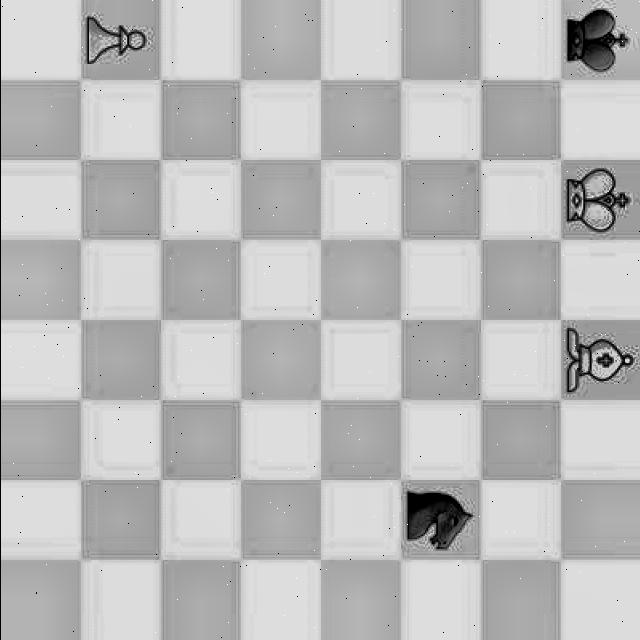Black Knight: (402, 486, 478, 558)
black king: (564, 6, 638, 80)
white bishop: (562, 326, 637, 398)
white king: (568, 169, 640, 237)
white pawn: (82, 0, 163, 79)
